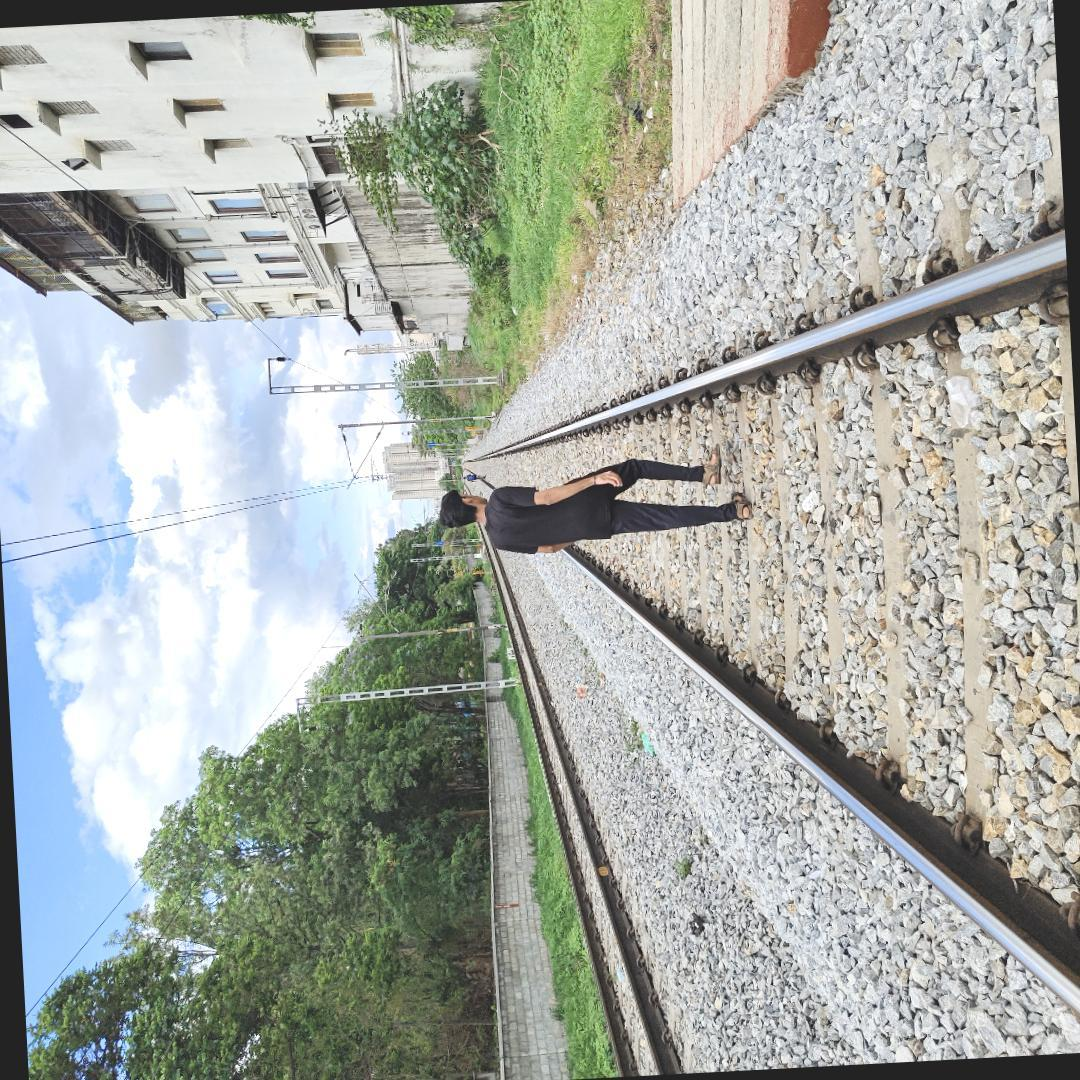standing: (425, 444, 754, 575)
